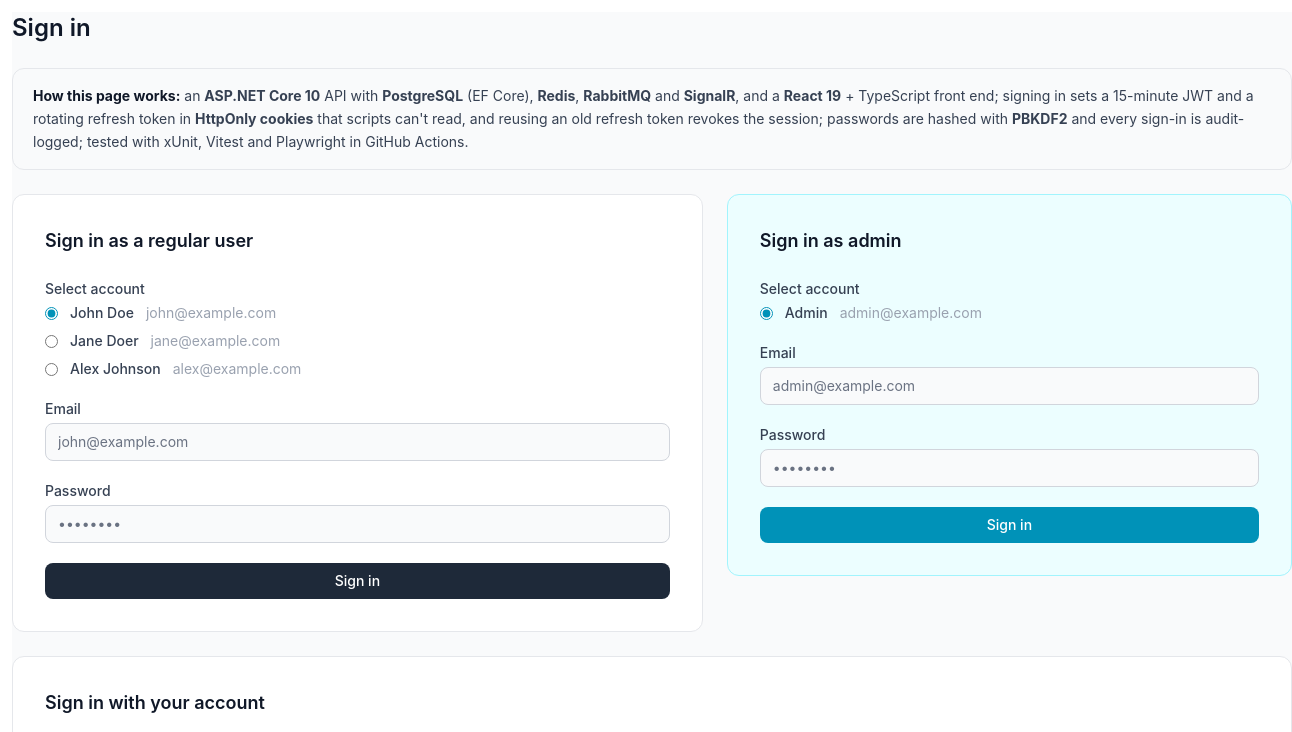
it: LoginPage › updates the email field when another demo user is picked
What coordinates should you click on to do the following:
click the radio button labelled "Jane Doer jane@example.com"
I would click on:
 (52, 341)
Its box is 45,335 -> 58,348.
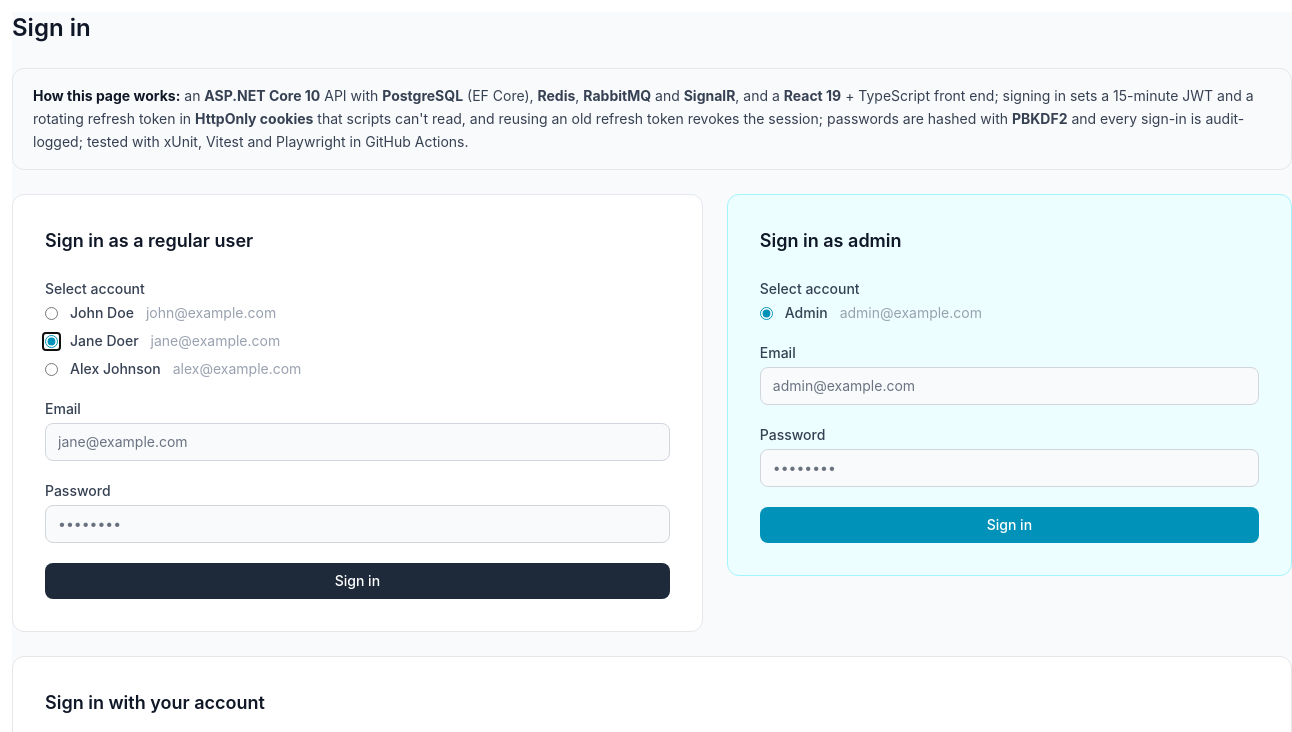
Check: the field labelled "Email" below "Alex Johnson" holds "jane@example.com", box 45,423 -> 670,461
